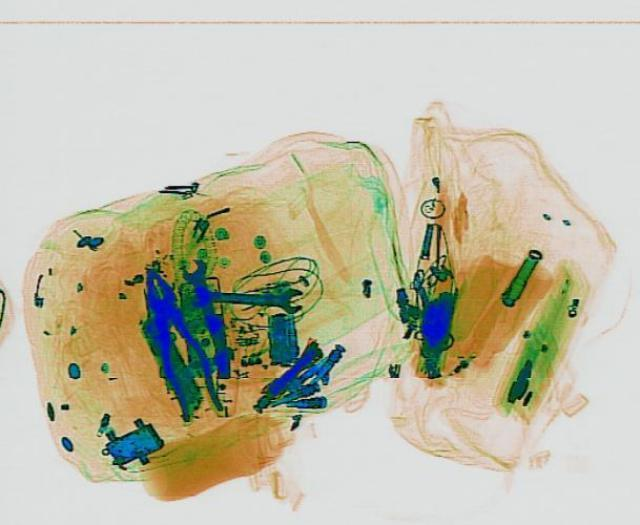Pliers: (127, 263, 226, 420)
Wrench: (176, 255, 238, 364), (190, 280, 302, 312)
